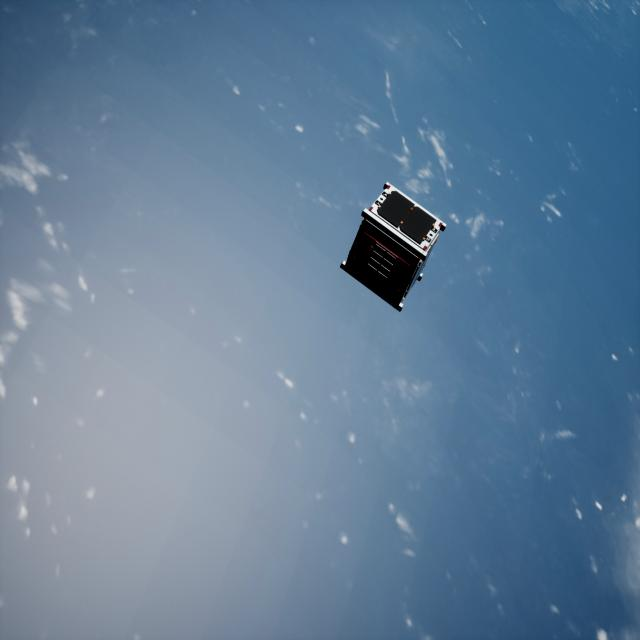satellite: (336, 180, 450, 317)
